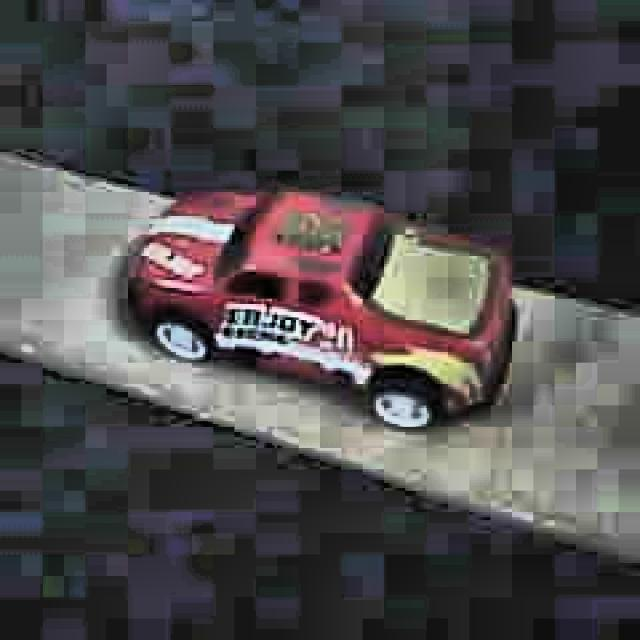car: (123, 187, 517, 434)
